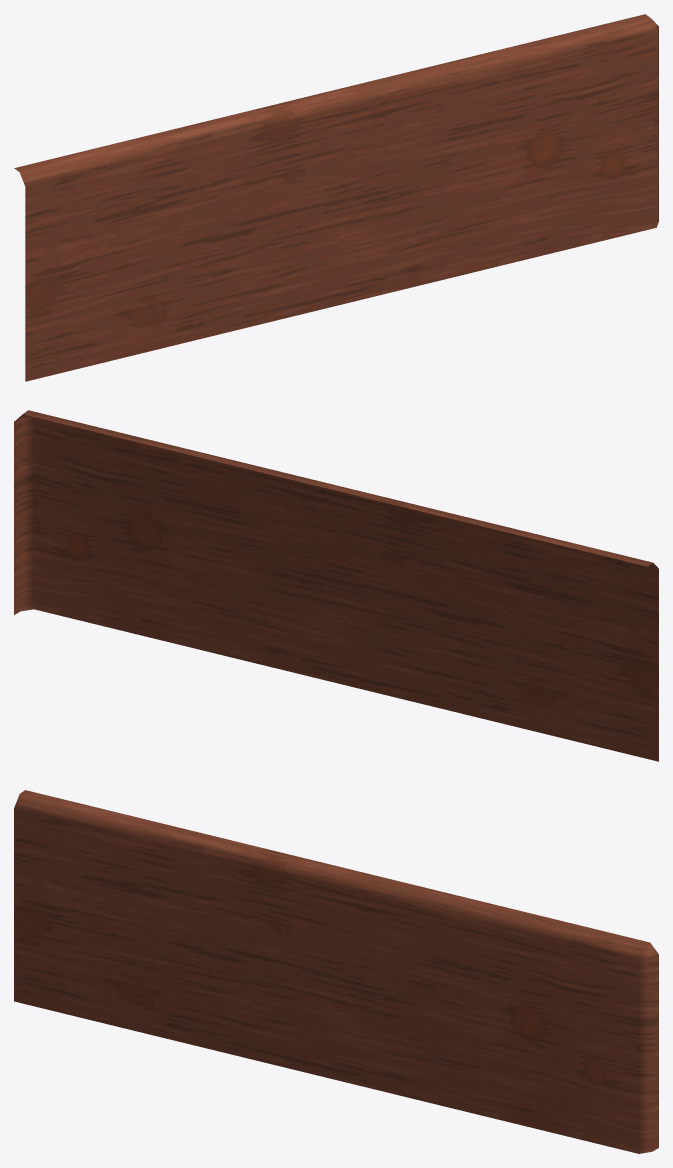
Rendered from En_W_Woodtrim2.fbx.
The picture shows the model from 3 angles, top to bottom: view 1: azimuth 30°, elevation 25°; view 2: azimuth 150°, elevation 25°; view 3: azimuth 330°, elevation 25°; orthographic projection.
Visible parts, largest first — view 1: En_W_Woodtrim2; view 2: En_W_Woodtrim2; view 3: En_W_Woodtrim2.
Part boxes in pixels (left/top/right/bottom): En_W_Woodtrim2: left=14, top=14, right=658, bottom=381; En_W_Woodtrim2: left=14, top=410, right=658, bottom=761; En_W_Woodtrim2: left=14, top=790, right=658, bottom=1153.
Bounding box in the file's own units: 200 × 61.33 × 6.13.
